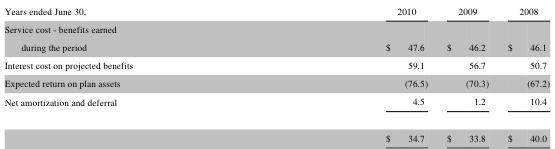table: (3, 3, 549, 143)
table column: (3, 3, 258, 143), (258, 3, 436, 143), (436, 3, 497, 143), (497, 3, 549, 143)
table column header: (3, 3, 549, 19)
table projected row header: (3, 19, 549, 37)
table row: (3, 91, 549, 119), (3, 119, 549, 143), (3, 19, 549, 37), (3, 37, 549, 55), (3, 55, 549, 73), (3, 73, 549, 91), (3, 3, 549, 19)
